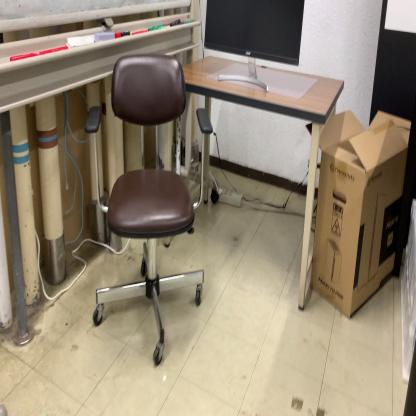chair: (85, 54, 215, 369)
